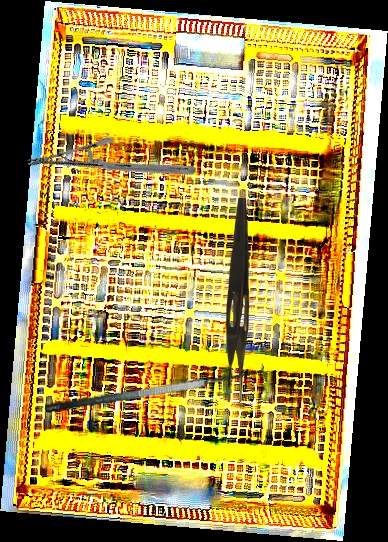Dressing Forceps: (226, 198, 250, 402)
Needle Holder: (25, 94, 198, 238)
Spatula Surgical: (41, 353, 267, 416)
